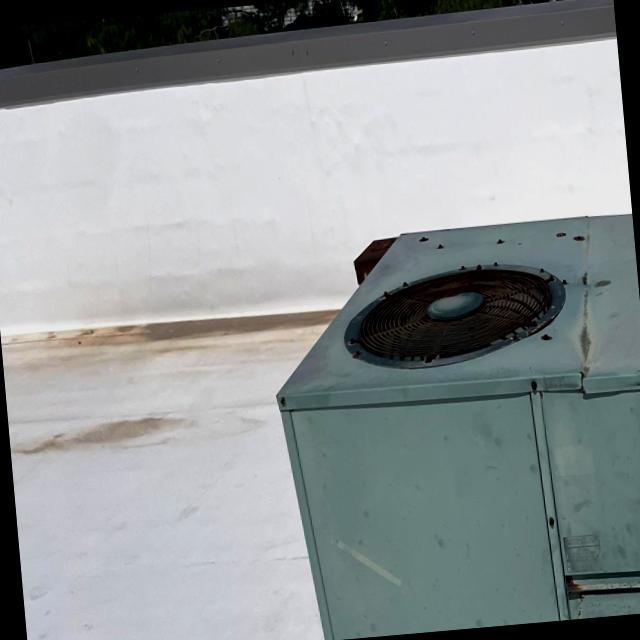RTU: (254, 190, 640, 640)
